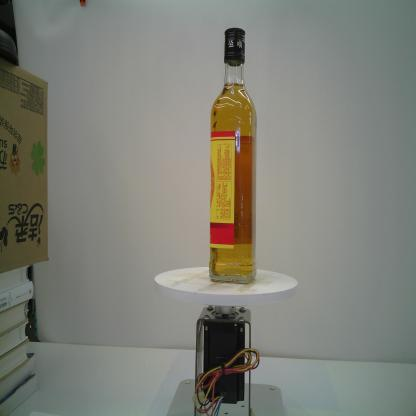Seasoner: (208, 27, 257, 285)
